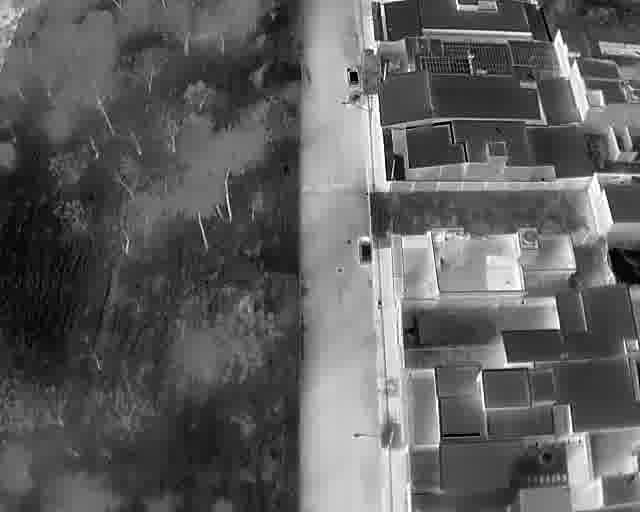car: (357, 236, 372, 266), (344, 63, 361, 88)
